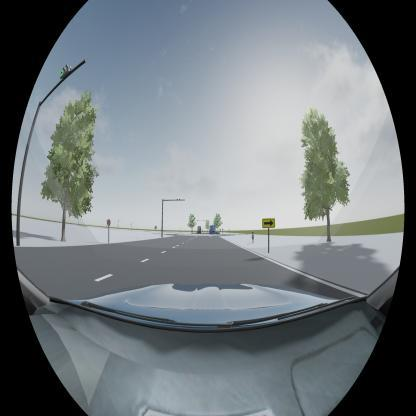Red Light: (176, 198, 180, 201)
